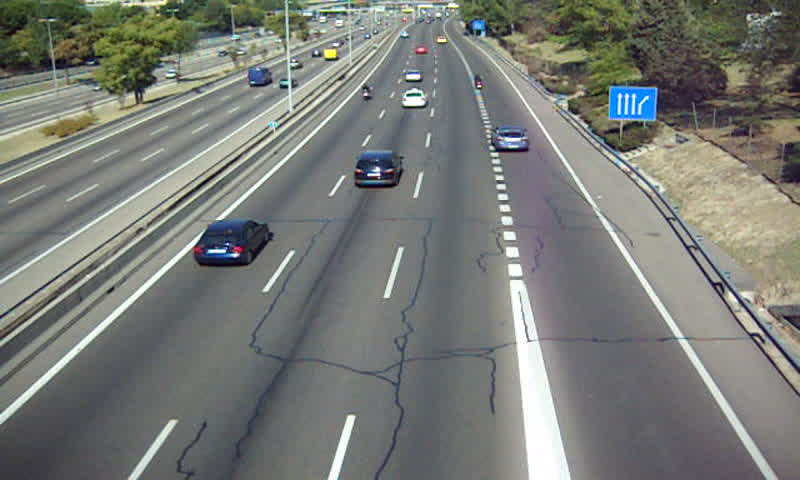car: (192, 220, 269, 264), (353, 151, 403, 185), (490, 125, 530, 152), (401, 88, 427, 107), (404, 68, 422, 82)
motorcycle: (361, 82, 373, 104), (472, 74, 484, 91)
